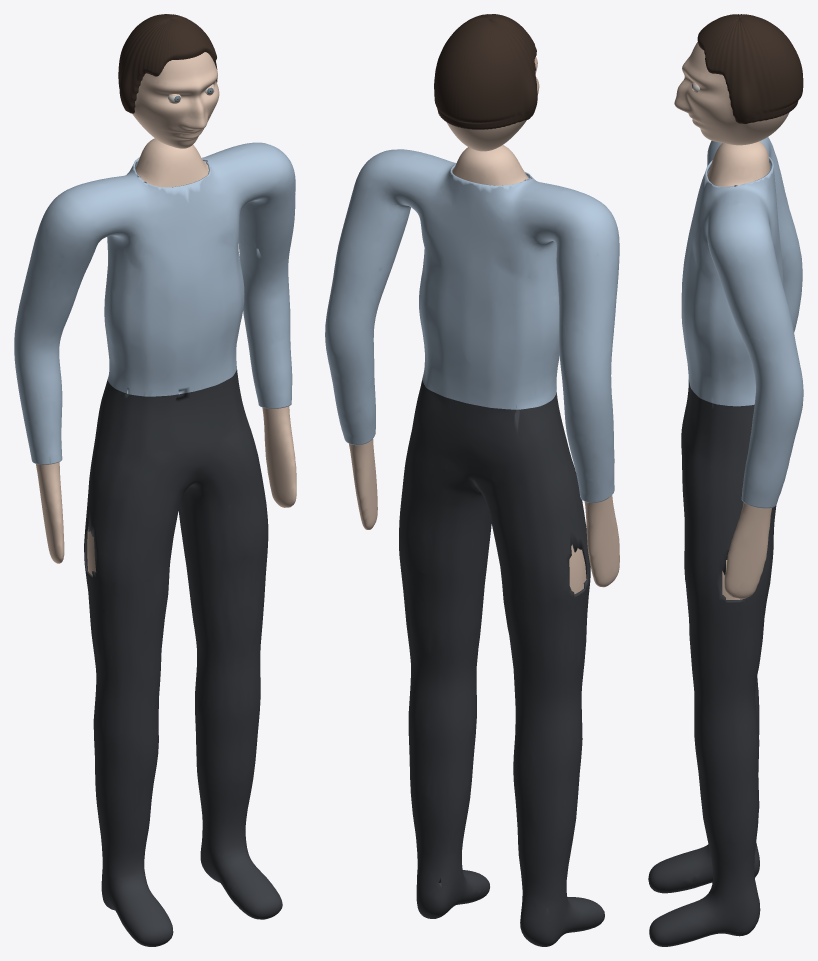
Rendered from Figure_Dad_Standing.fbx.
3 renders of one model, left to right at view 1: azimuth 30°, elevation 25°; view 2: azimuth 150°, elevation 25°; view 3: azimuth 270°, elevation 25°, orthographic. The views are drawn at different scales.
Visible parts, largest first — view 1: Clothes, Body, Head, Hair; view 2: Clothes, Hair, Body, Head; view 3: Clothes, Hair, Body, Head.
Boxes of the visible parts, x1=… form: Clothes: x1=14, y1=142, x2=295, y2=946; Body: x1=36, y1=138, x2=296, y2=575; Head: x1=132, y1=52, x2=219, y2=148; Hair: x1=118, y1=14, x2=217, y2=113; Clothes: x1=325, y1=149, x2=619, y2=946; Hair: x1=434, y1=14, x2=537, y2=129; Body: x1=349, y1=145, x2=619, y2=594; Head: x1=446, y1=57, x2=539, y2=151; Clothes: x1=648, y1=137, x2=803, y2=946; Hair: x1=697, y1=14, x2=803, y2=123; Body: x1=707, y1=141, x2=771, y2=599; Head: x1=674, y1=41, x2=789, y2=145.
Bounding box in the file's own units: 0.5813 × 1.83 × 0.2866.
